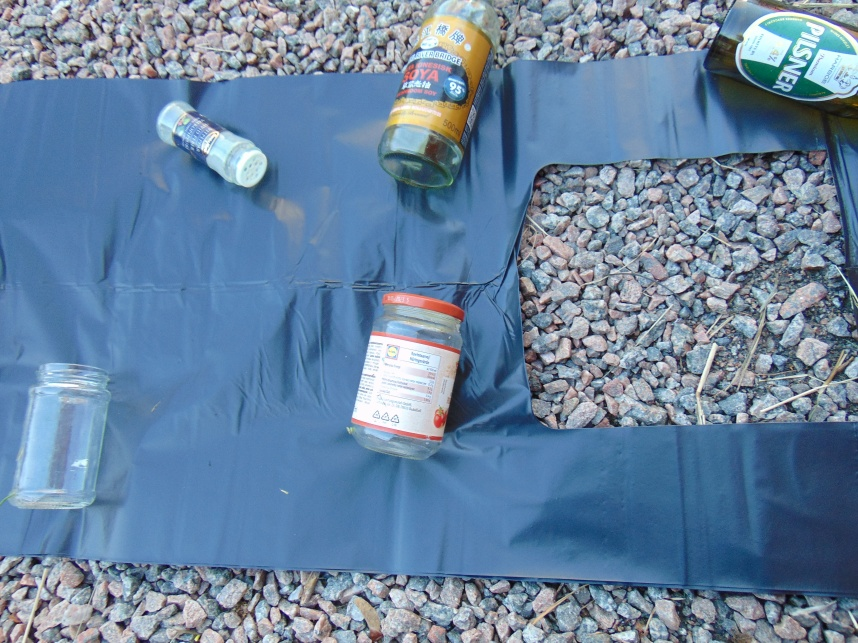glass_bottle: (377, 1, 499, 190), (346, 289, 465, 465), (704, 1, 858, 114), (8, 362, 112, 513), (156, 100, 268, 186)
